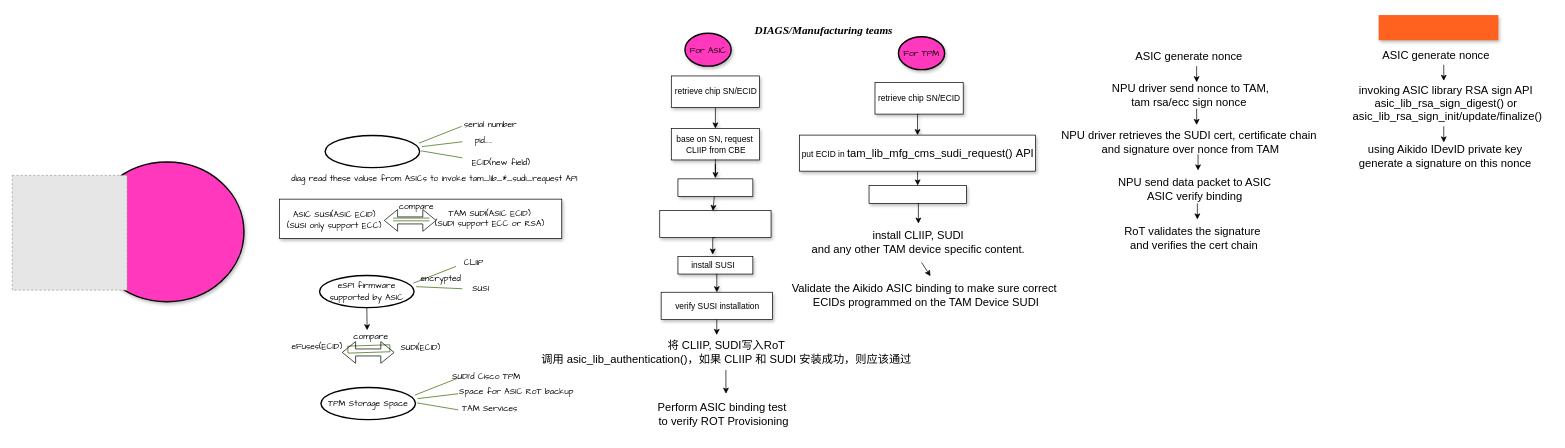
Image size: 1565x448. Some labels were removed from this diagram. Grey dashed boxes stand in for pictures. The centre of each missing label's shape, as x and y in pixels:
API： asic_lib_verify_binding_init: point (1439, 28)
CBE add ECID in SUDI: point (918, 195)
create CMS SUSI request: point (715, 225)
install CLIIP: point (715, 188)
rot backup in TPM or in eSPI flash ? rot = eSPI ?: point (167, 232)
TAM SUDI request: point (372, 151)
